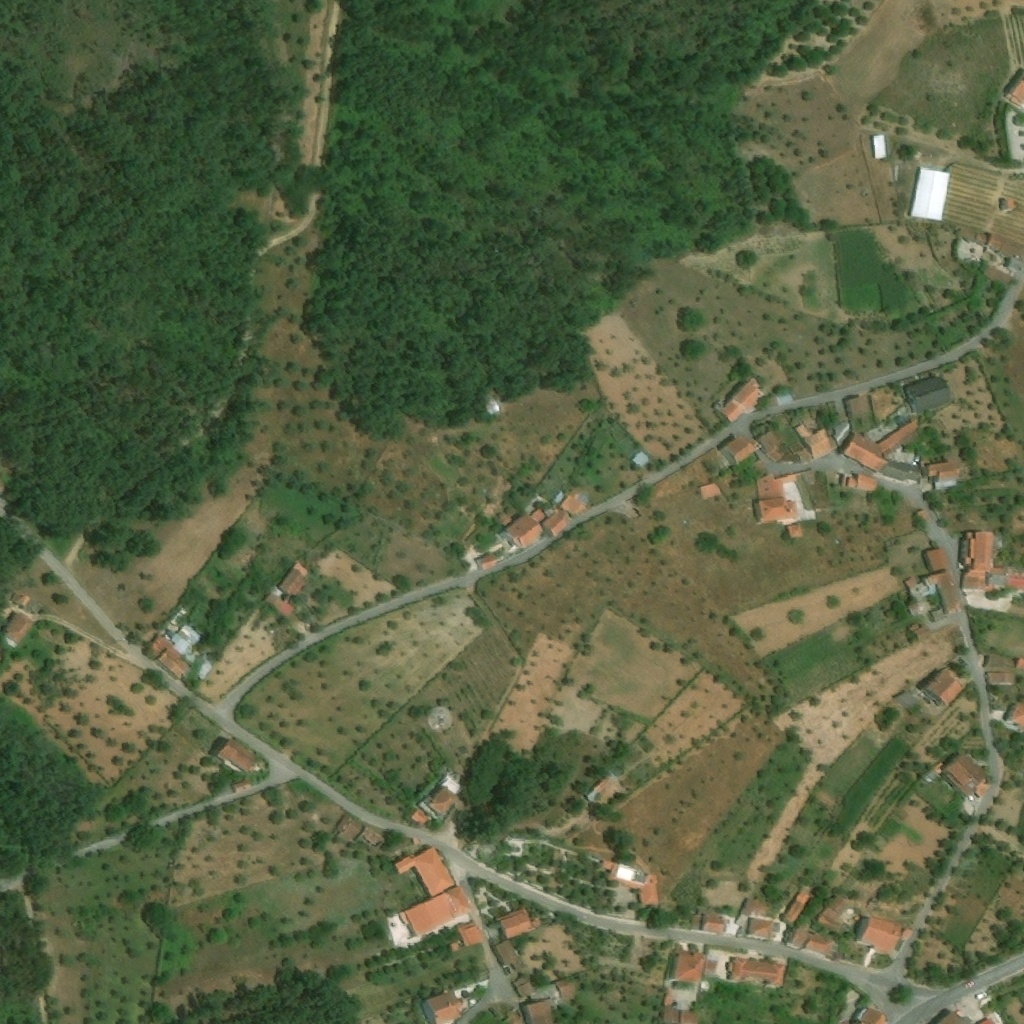0 no-damage: (955, 529, 1023, 614), (844, 416, 923, 473), (752, 472, 819, 526), (394, 846, 456, 898), (903, 567, 965, 617), (417, 770, 470, 824), (600, 858, 658, 905), (941, 753, 997, 801), (146, 634, 193, 682), (910, 167, 951, 222), (718, 375, 763, 424), (786, 419, 832, 465), (423, 887, 472, 930), (901, 372, 952, 413), (722, 956, 785, 987), (217, 737, 263, 775), (555, 967, 604, 1002), (494, 907, 543, 941), (861, 916, 903, 955), (924, 667, 965, 706), (503, 512, 544, 550), (396, 903, 437, 940), (976, 229, 1023, 260), (722, 432, 764, 466), (274, 561, 311, 599), (815, 891, 848, 933), (427, 989, 465, 1023), (869, 385, 902, 424), (880, 458, 923, 487), (841, 392, 870, 433), (582, 771, 618, 804), (781, 887, 812, 925), (1, 611, 35, 644), (926, 459, 963, 489), (334, 811, 365, 845), (674, 950, 706, 982), (495, 941, 524, 975), (754, 430, 783, 464), (825, 413, 850, 451), (510, 971, 542, 1000), (690, 908, 725, 934), (837, 472, 879, 493), (543, 507, 571, 538), (905, 165, 921, 217), (264, 591, 295, 617), (171, 625, 199, 653), (732, 895, 757, 926), (526, 998, 557, 1023), (457, 921, 485, 947), (982, 264, 1012, 288), (921, 686, 947, 710), (748, 916, 774, 939), (491, 946, 510, 977), (166, 603, 189, 628), (807, 934, 834, 955), (926, 548, 949, 572), (788, 925, 810, 948), (936, 1009, 972, 1023), (561, 494, 584, 515), (854, 1007, 884, 1023), (988, 654, 1015, 671), (699, 480, 722, 499), (907, 622, 930, 641), (475, 553, 497, 572), (182, 621, 205, 639), (503, 531, 524, 550), (872, 134, 887, 160), (631, 449, 651, 468), (482, 395, 500, 416), (987, 671, 1016, 684), (856, 916, 870, 942), (720, 446, 738, 466), (899, 689, 919, 707), (422, 998, 436, 1023), (213, 735, 230, 754), (12, 590, 31, 607), (411, 809, 430, 825), (1, 632, 18, 649), (842, 431, 855, 453), (806, 948, 829, 960), (231, 779, 252, 792), (668, 950, 678, 977), (663, 1008, 681, 1023), (998, 196, 1016, 211), (519, 1004, 533, 1023), (920, 551, 932, 573), (1003, 717, 1023, 730), (787, 523, 804, 538), (896, 697, 914, 711), (1012, 702, 1023, 724), (827, 942, 839, 962), (1004, 702, 1017, 719), (680, 1010, 697, 1023), (542, 522, 554, 538), (531, 508, 545, 521), (497, 514, 512, 526), (507, 1011, 521, 1023), (628, 458, 641, 470), (787, 943, 803, 952), (900, 929, 913, 940), (920, 546, 943, 552), (916, 510, 928, 521), (165, 623, 178, 633), (874, 1013, 887, 1023), (988, 683, 1016, 687), (664, 995, 671, 1009), (983, 654, 990, 667)
4 un-classified: (1005, 75, 1023, 107), (1015, 658, 1023, 670)
